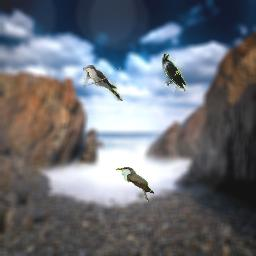Crow: (162, 53, 186, 93)
Cuckoo: (83, 65, 123, 101), (115, 167, 155, 202)
